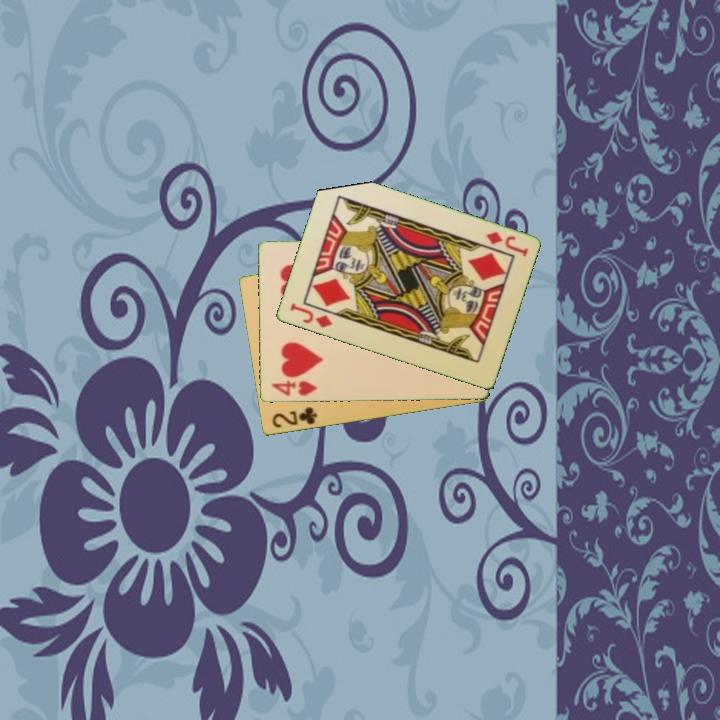2c: (268, 403, 320, 431)
4h: (268, 377, 319, 399)
Jd: (286, 299, 335, 331), (482, 228, 531, 260)
